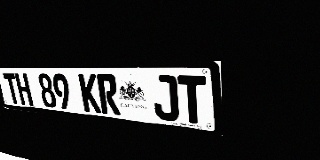8: (37, 73, 57, 108)
9: (51, 74, 73, 110)
H: (14, 73, 34, 106)
J: (151, 75, 179, 122)
K: (78, 74, 101, 113)
R: (96, 74, 121, 115)
T: (177, 75, 207, 125), (3, 73, 21, 104)
